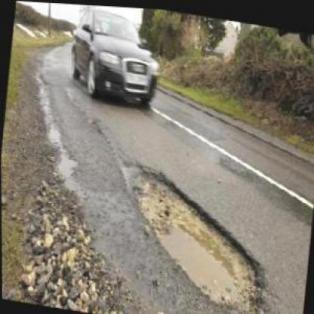Hueco: (106, 157, 276, 308)
